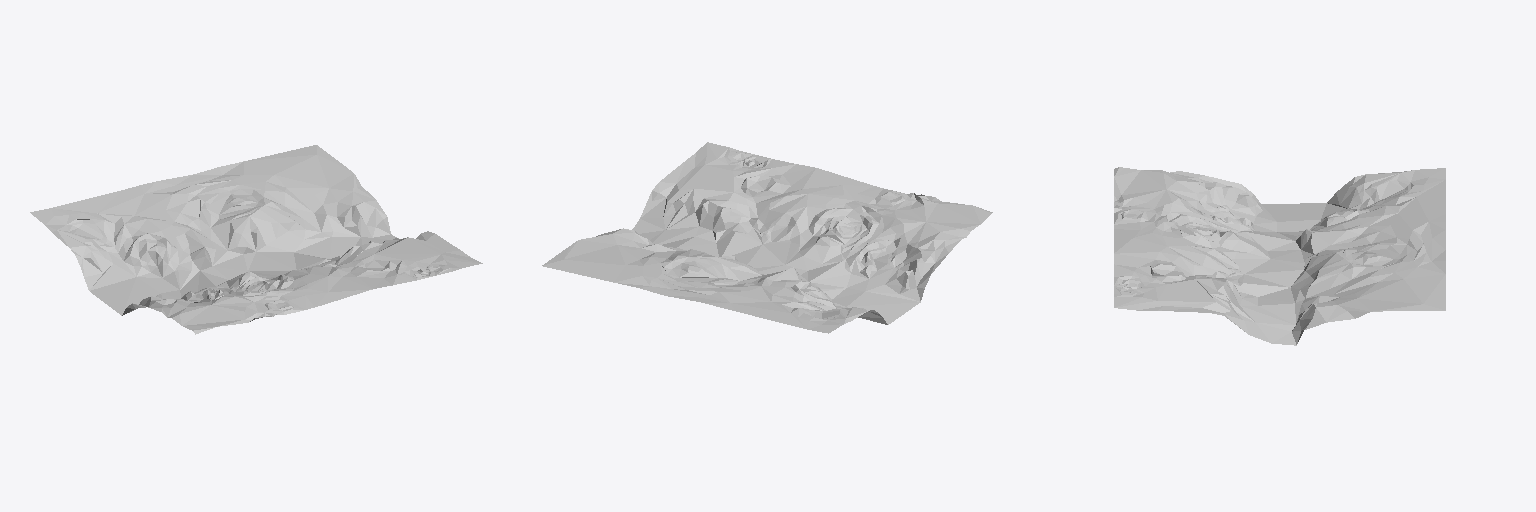
File: moon_surface-collider.obj
3 views of the same model, side by side, from view 1: azimuth 30°, elevation 25°; view 2: azimuth 150°, elevation 25°; view 3: azimuth 270°, elevation 25° (orthographic).
Visible parts, largest first — view 1: Mesher; view 2: Mesher; view 3: Mesher.
Part boxes in pixels (bbox=[...]): Mesher: bbox=[30, 145, 482, 334]; Mesher: bbox=[542, 142, 992, 333]; Mesher: bbox=[1114, 167, 1445, 345].
Size of the model in its own units: 1 by 0.1302 by 1.